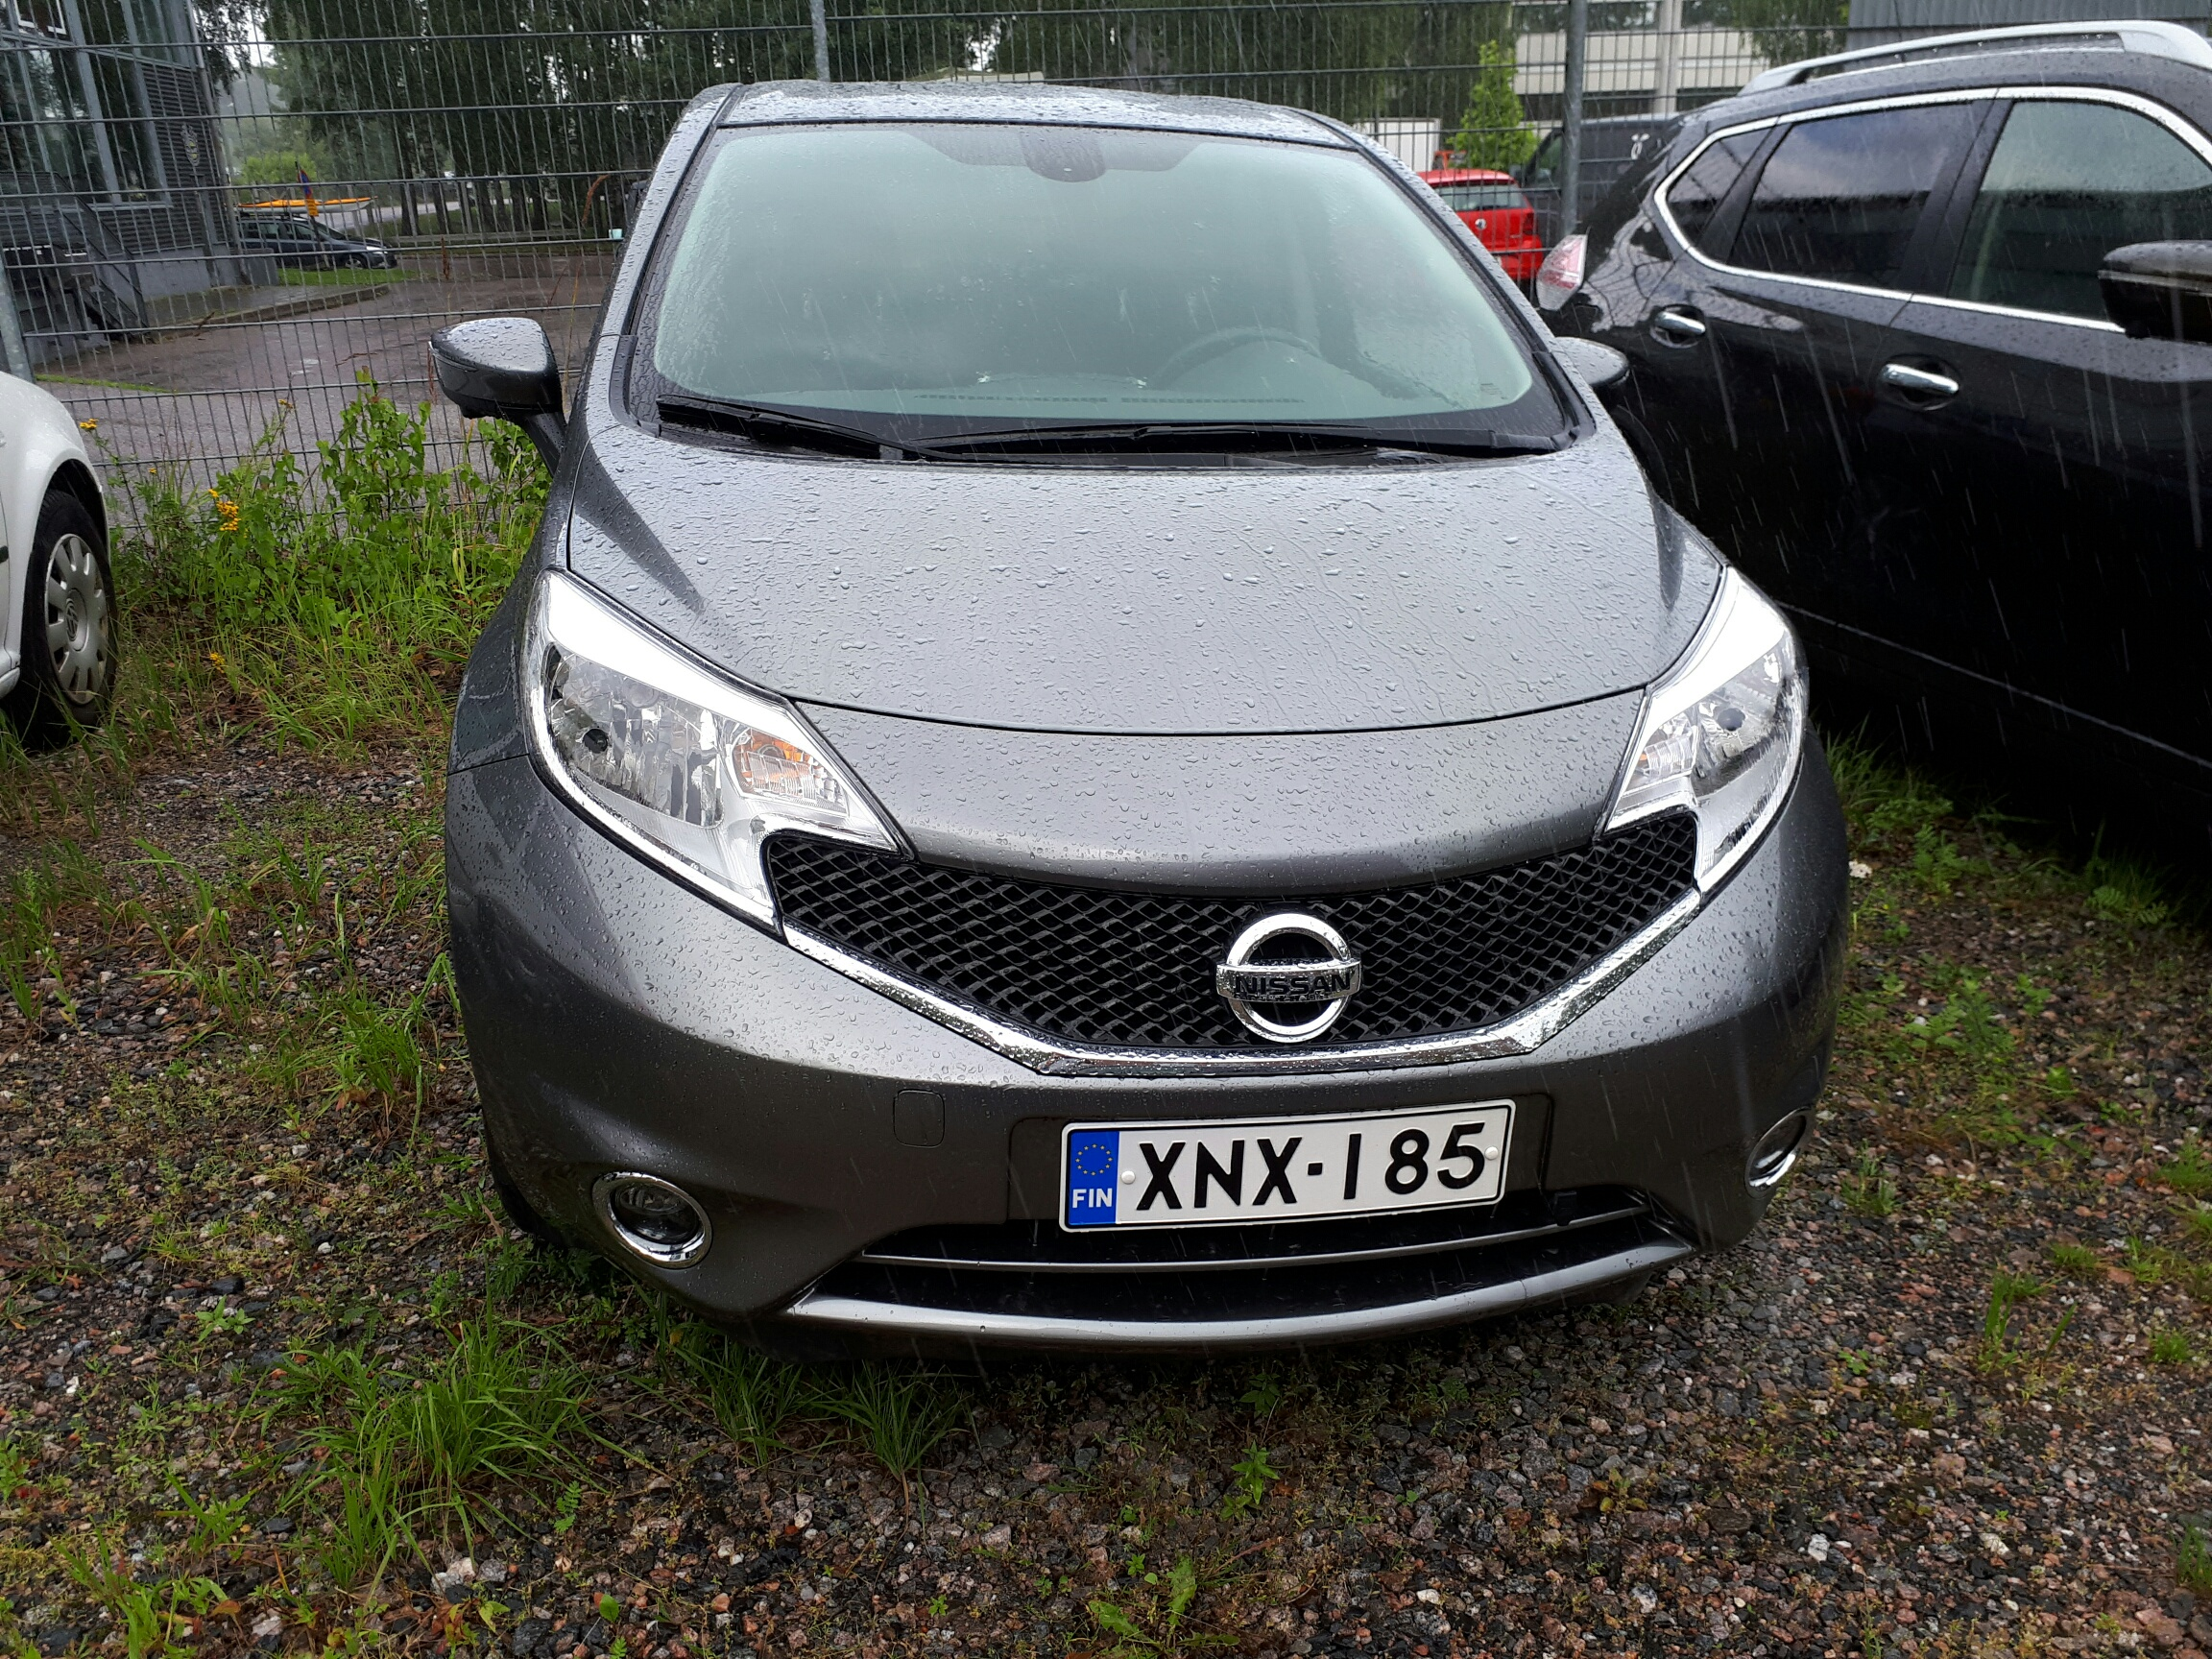license: (1061, 1097, 1507, 1227)
